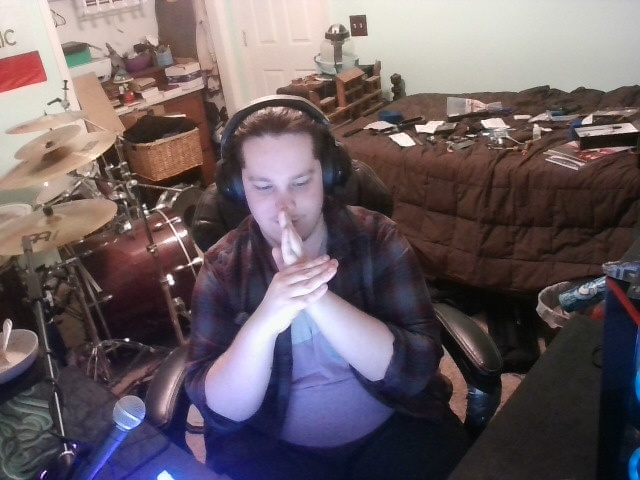quiet: (228, 204, 371, 341)
